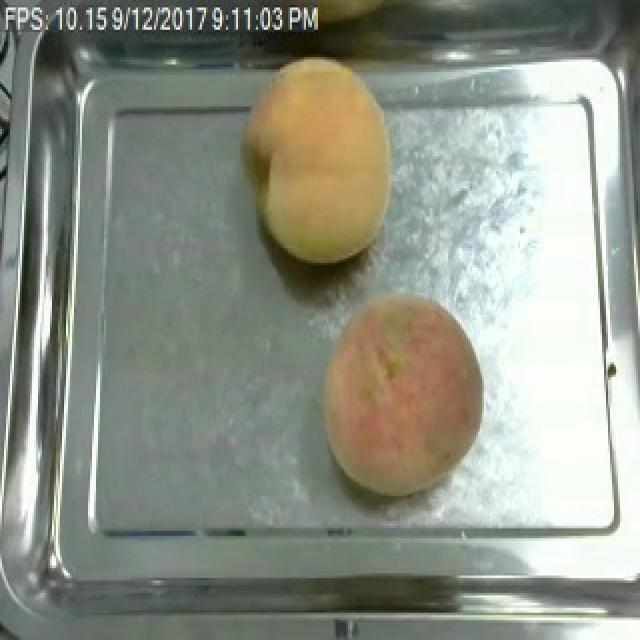Fruit: (312, 285, 492, 501), (238, 52, 402, 270)
